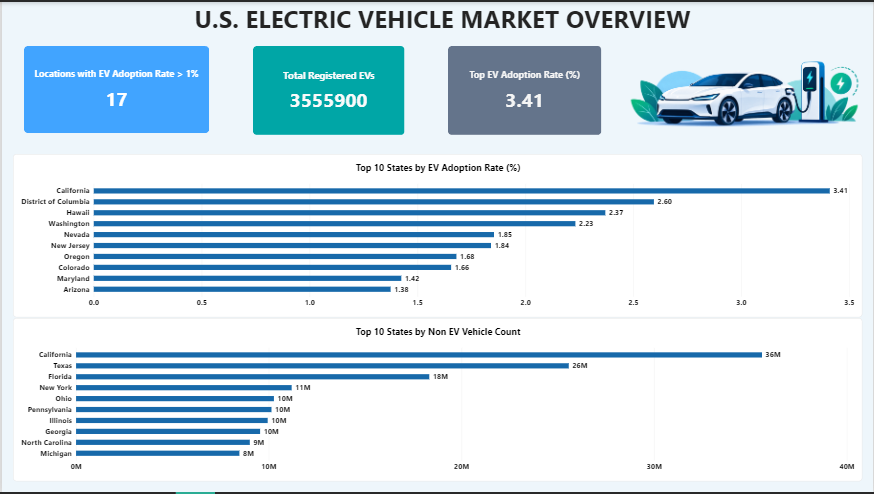

What the dashboard file says about the page in this screenshot:
{"tool":"powerbi","page":{"name":"Automated U.S Registration Analysis ","canvas":[1920,1080],"ordinal":0},"visuals":[{"type":"clusteredBarChart","title":"Top 10 States by EV Adoption Rate (%)","fields":{"Category":["analysis_03.State"],"Y":["Sum(analysis_03.ev_adoption_rate)"]},"box":[24,336,1872,360],"z":0},{"type":"cardVisual","title":"Total Vehicles","fields":{"Data":["CountNonNull(analysis_08.State)"]},"box":[48,96,408,192],"z":1000},{"type":"cardVisual","title":"Total Vehicles","fields":{"Data":["Sum(analysis_01.total_ev)"]},"box":[552.7,96,334.6,196.2],"z":2000},{"type":"cardVisual","title":"Total Vehicles","fields":{"Data":["Max(analysis_03.ev_adoption_rate)"]},"box":[984,96,338.5,196.2],"z":3000},{"type":"textbox","box":[21.2,0,1898.1,96.2],"z":4000},{"type":"image","box":[1344,96,576,192],"z":5000},{"type":"clusteredBarChart","title":"Top 10 States by Non EV Vehicle Count","fields":{"Category":["analysis_10.State"],"Y":["Sum(analysis_10.non_ev_vehicles)"]},"box":[24,696,1872,360],"z":6000}]}

Visuals, with their boxes in screenshot pixels (x1, y1, x2, y2), scaled from the page's 1920x1080 canvas onto the 874x494 screenshot:
"Top 10 States by EV Adoption Rate (%)" clusteredBarChart: crop(11, 154, 863, 318)
"Total Vehicles" cardVisual: crop(22, 44, 208, 132)
"Total Vehicles" cardVisual: crop(252, 44, 404, 134)
"Total Vehicles" cardVisual: crop(448, 44, 602, 134)
textbox: crop(10, 0, 873, 44)
image: crop(612, 44, 873, 132)
"Top 10 States by Non EV Vehicle Count" clusteredBarChart: crop(11, 318, 863, 483)
